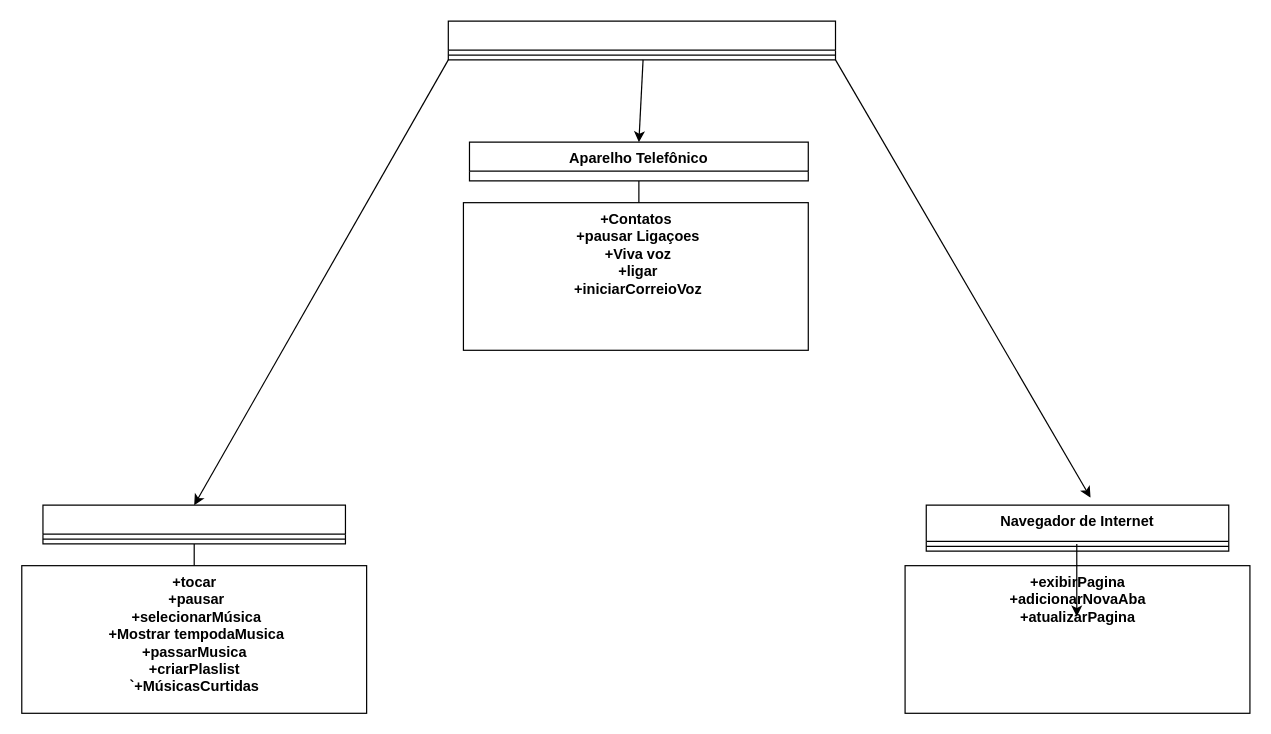
This 1271x734 diagram has some shape labels left out. The shapes that lost their labels are listed below. From the top down, each one's box as (x1, y1, x2, y2) in pixels, then its label:
(447, 20, 836, 60): iPhone
(42, 504, 345, 544): Reprodutor de Musicas
